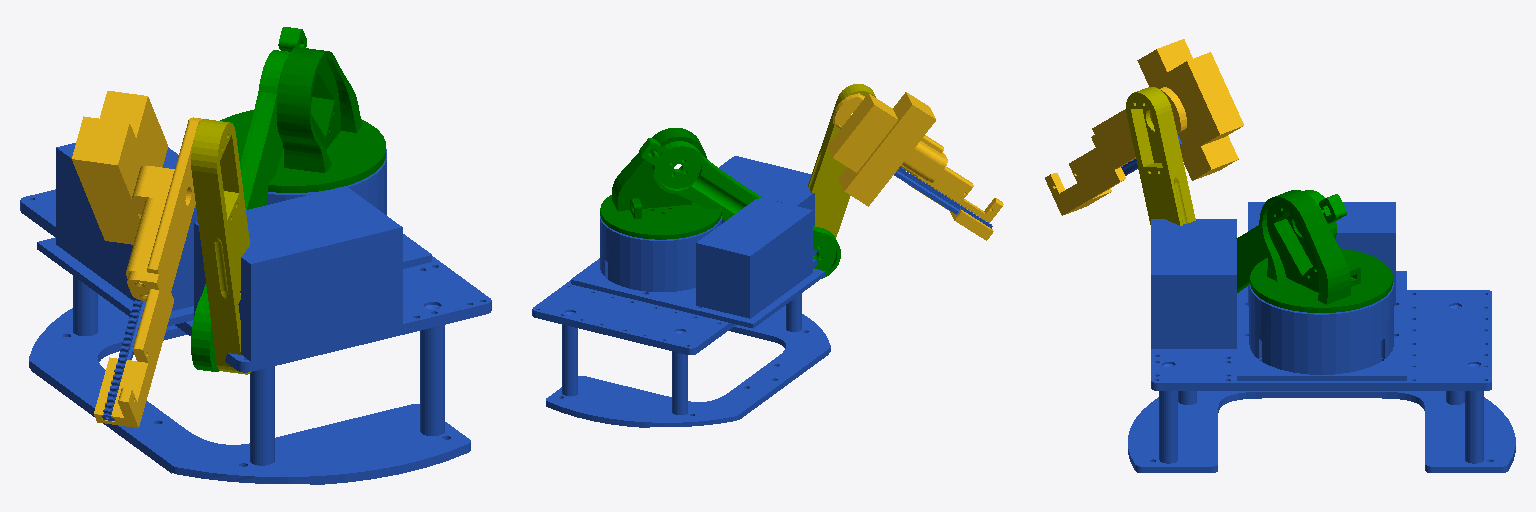
The robot description file, URDF, robot "pollibot":
<?xml version="1.0" ?>
<!-- =================================================================================== -->
<!-- |    This document was autogenerated by xacro from [local-path]/pollibot_ws/src/pollibot_arm_description/urdf/pollibot_arm.urdf.xacro | -->
<!-- |    EDITING THIS FILE BY HAND IS NOT RECOMMENDED                                 | -->
<!-- =================================================================================== -->
<!-- =================================================================================== -->
<!-- |    This document was autogenerated by xacro from m10ia.xacro                    | -->
<!-- |    EDITING THIS FILE BY HAND IS NOT RECOMMENDED                                 | -->
<!-- =================================================================================== -->
<robot name="pollibot">
  <link name="base_link">
    <visual>
      <origin rpy="0 0 0" xyz="0 0 0"/>
      <geometry>
        <mesh filename="package://pollibot_arm_description/meshes/visual/turtlebase.stl"/>
      </geometry>
      <material name="">
        <color rgba="0.2 0.4 0.8 1.0"/>
      </material>
    </visual>
    <collision>
      <origin rpy="0 0 0" xyz="0 0 0"/>
      <geometry>
        <mesh filename="package://pollibot_arm_description/meshes/collision/turtlebase.stl"/>
      </geometry>
    </collision>
  </link>
  <link name="waist">
    <visual>
      <origin rpy="1.5708 0 2.30383" xyz="0 0 0.1245"/>
      <geometry>
        <mesh filename="package://pollibot_arm_description/meshes/visual/waist.stl"/>
      </geometry>
      <material name="">
        <color rgba="0.0 0.5 0.0 1.0"/>
      </material>
    </visual>
    <collision>
      <origin rpy="1.5708 0 2.30383" xyz="0 0 0.1245"/>
      <geometry>
        <mesh filename="package://pollibot_arm_description/meshes/collision/waist.stl"/>
      </geometry>
    </collision>
  </link>
  <link name="link_1">
    <visual>
      <origin rpy="0 0 -2.00713" xyz="0 0 0"/>
      <geometry>
        <mesh filename="package://pollibot_arm_description/meshes/visual/link_1.stl"/>
      </geometry>
      <material name="">
        <color rgba="0.0 0.6 0.0 1.0"/>
      </material>
    </visual>
    <collision>
      <origin rpy="0 0 -2.00713" xyz="0 0 0"/>
      <geometry>
        <mesh filename="package://pollibot_arm_description/meshes/collision/link_1.stl"/>
      </geometry>
    </collision>
  </link>
  <link name="link_2">
    <visual>
      <origin rpy="0 0 -1.91986" xyz="0.0326 -0.0123 0"/>
      <geometry>
        <mesh filename="package://pollibot_arm_description/meshes/visual/link_2.stl"/>
      </geometry>
      <material name="">
        <color rgba="0.7 0.7 0.0 1.0"/>
      </material>
    </visual>
    <collision>
      <origin rpy="0 0 -1.91986" xyz="0.0326 -0.0123 0"/>
      <geometry>
        <mesh filename="package://pollibot_arm_description/meshes/collision/link_2.stl"/>
      </geometry>
    </collision>
  </link>
  <link name="endeffector">
    <visual>
      <origin rpy="0 0 0" xyz="0.01 0.014 0"/>
      <geometry>
        <mesh filename="package://pollibot_arm_description/meshes/visual/endeffector.stl"/>
      </geometry>
      <material name="">
        <color rgba="0.96 0.76 0.13 1.0"/>
      </material>
    </visual>
    <collision>
      <origin rpy="0 0 0" xyz="0.01 0.014 0"/>
      <geometry>
        <mesh filename="package://pollibot_arm_description/meshes/collision/endeffector.stl"/>
      </geometry>
    </collision>
  </link>
  <link name="pusher">
    <visual>
      <origin rpy="0 0 0" xyz="0 0 0"/>
      <geometry>
        <mesh filename="package://pollibot_arm_description/meshes/visual/pusher.stl"/>
      </geometry>
      <material name="">
        <color rgba="0.2 0.4 0.8 1.0"/>
      </material>
    </visual>
    <collision>
      <origin rpy="0 0 0" xyz="0 0 0"/>
      <geometry>
        <mesh filename="package://pollibot_arm_description/meshes/collision/pusher.stl"/>
      </geometry>
    </collision>
  </link>
  <joint name="joint_1" type="revolute">
    <origin rpy="0 0 0" xyz="0.021 -0.0313 0.0335"/>
    <parent link="base_link"/>
    <child link="waist"/>
    <axis xyz="0 0 1"/>
    <limit effort="0" lower="0.0" upper="4.71239" velocity="3.67"/>
  </joint>
  <joint name="joint_2" type="revolute">
    <origin rpy="-1.570796 2.9147 0.733038" xyz="-0.0085 -0.011 0.165"/>
    <parent link="waist"/>
    <child link="link_1"/>
    <axis xyz="0 0 1"/>
    <limit effort="0" lower="0.0" upper="4.71239" velocity="3.32"/>
  </joint>
  <joint name="joint_3" type="revolute">
    <origin rpy="0 3.141592 -2.00713" xyz="0.12688309 -0.05916655 -0.005"/>
    <parent link="link_1"/>
    <child link="link_2"/>
    <axis xyz="0 0 1"/>
    <limit effort="0" lower="0" upper="4.71239" velocity="3.67"/>
  </joint>
  <joint name="joint_4" type="revolute">
    <origin rpy="0 3.141592 0" xyz="0.11276 -0.041042 0.006"/>
    <parent link="link_2"/>
    <child link="endeffector"/>
    <axis xyz="0 0 1"/>
    <limit effort="0" lower="0" upper="4.71239" velocity="6.98"/>
  </joint>
  <joint name="joint_5" type="prismatic">
    <origin rpy="3.141592 0 1.570796" xyz="0.0041 0.02 0.0332"/>
    <parent link="endeffector"/>
    <child link="pusher"/>
    <axis xyz="1 0 0"/>
    <limit effort="0" lower="0" upper="0.087" velocity="6.98"/>
  </joint>
</robot>

--- What the picture shows (computed from the rendered views, not written in the file) ---
Views: 3 orthographic renders of the robot side by side, from view 1: azimuth 30°, elevation 25°; view 2: azimuth 150°, elevation 25°; view 3: azimuth 270°, elevation 25°.
Robot: pollibot — 6 links, 5 joints (4 revolute, 1 prismatic); root link base_link; default pose: every joint at zero.
Links seen in each view (by area): view 1: base_link, endeffector, waist, link_2, link_1, pusher; view 2: base_link, endeffector, waist, link_1, link_2, pusher; view 3: base_link, endeffector, waist, link_2, link_1.
Link boxes in pixels (left/top/right/bottom): base_link: left=20, top=143, right=491, bottom=484; endeffector: left=72, top=91, right=202, bottom=427; waist: left=220, top=47, right=385, bottom=192; link_2: left=191, top=119, right=250, bottom=374; link_1: left=191, top=27, right=306, bottom=371; pusher: left=102, top=298, right=145, bottom=420; base_link: left=532, top=156, right=830, bottom=427; endeffector: left=827, top=92, right=1003, bottom=240; waist: left=600, top=128, right=721, bottom=239; link_1: left=639, top=138, right=840, bottom=278; link_2: left=808, top=84, right=875, bottom=237; pusher: left=894, top=167, right=992, bottom=228; base_link: left=1128, top=202, right=1515, bottom=472; endeffector: left=1045, top=39, right=1243, bottom=215; waist: left=1250, top=190, right=1392, bottom=312; link_2: left=1126, top=87, right=1195, bottom=225; link_1: left=1236, top=190, right=1346, bottom=292.
Size in the robot's own frame: 0.2654 by 0.319 by 0.2274 metres.
Meshes: 6 distinct files referenced, 6 mesh visuals loaded (6 binary STL).